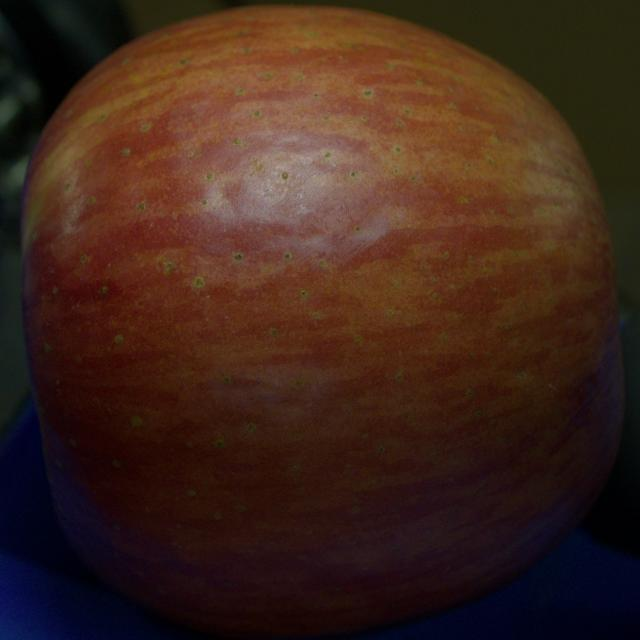apple: (22, 6, 624, 637)
